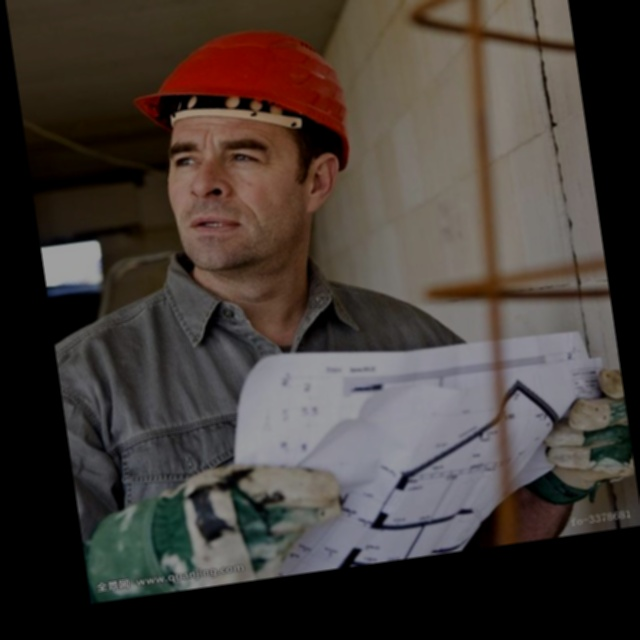Con_Casco: (133, 18, 365, 294)
